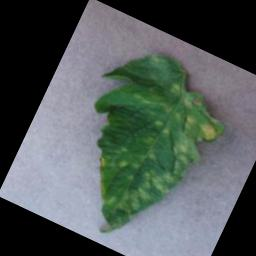Leaf_Mold: (191, 114, 227, 150)
